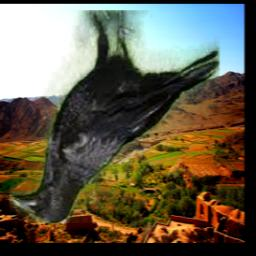Crow: (10, 10, 220, 223)
